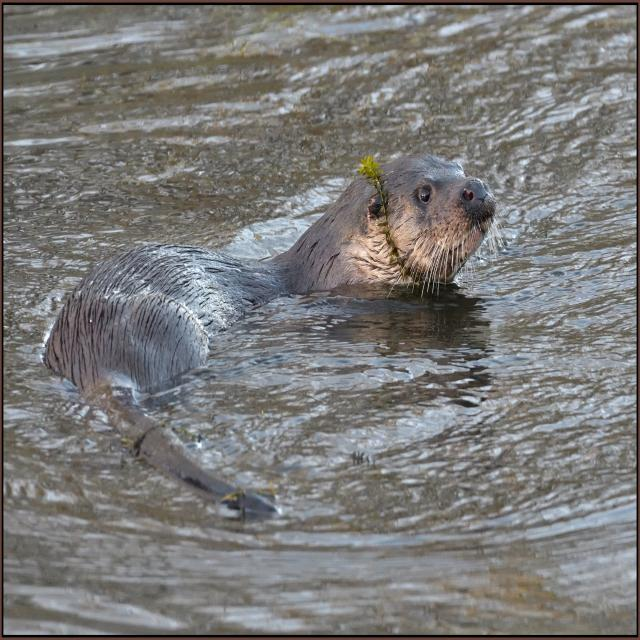otter: (292, 151, 493, 295)
